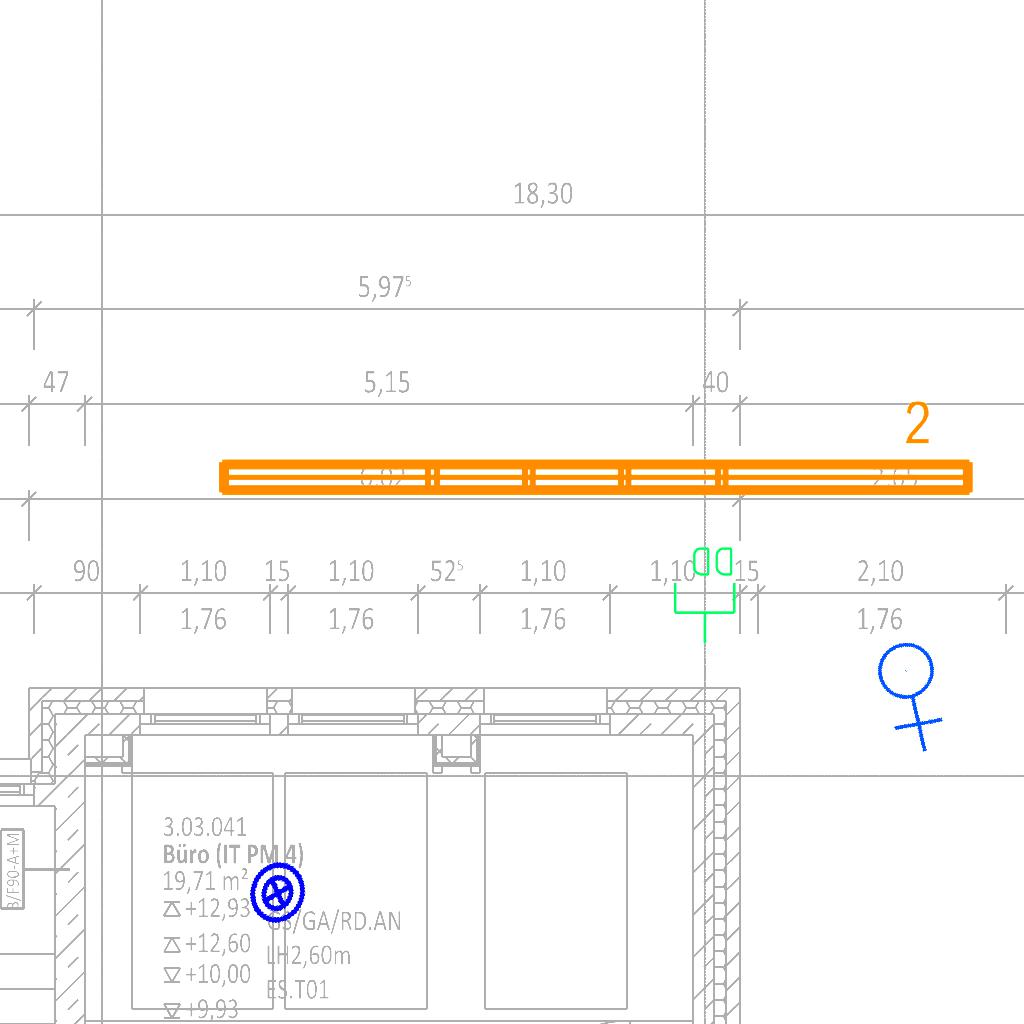Ambulanz_Pendelleuchte_LED: (208, 396, 982, 508)
Datenanschluss_zweifach: (671, 543, 740, 646)
Elektroanschluss_allgemein_230V_Geraeteanschlussdose_230V: (848, 623, 981, 757)
Taster_beleuchtet: (236, 851, 320, 935)
